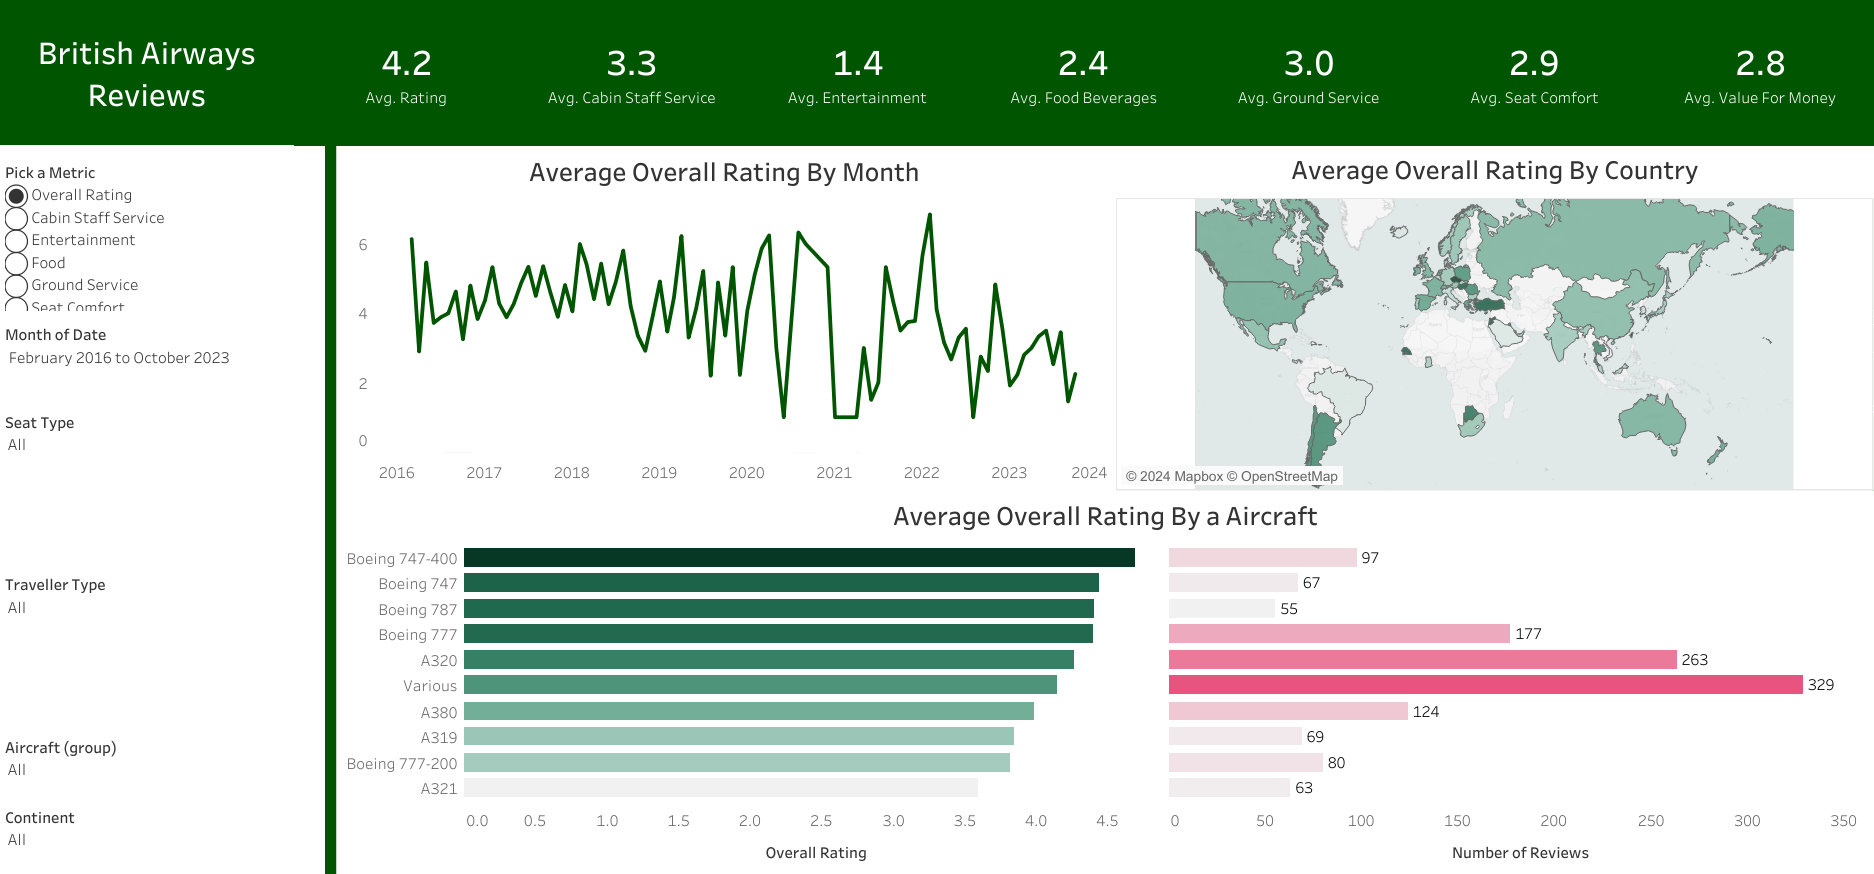

The dashboard page shown, as its layout file describes it:
{"tool":"tableau","page":{"name":"Dashboard 1","canvas":[1000,1000],"units":"permille","ordinal":0},"visuals":[{"type":"text","box":[0,0,156.4,165.7]},{"type":"worksheet","title":"Summary","mark":"Automatic","box":[156.4,0,842.9,165.7]},{"type":"worksheet","title":"Map","mark":"Automatic","box":[595.2,164.5,404.2,396]},{"type":"worksheet","title":"Month","mark":"Automatic","rows":["Calculation_3804978748397146124"],"cols":["date"],"box":[180.6,166.9,411.1,391.3]},{"type":"parameter","param":"[Parameters].[Countries.csv Parameter]","box":[0,176.3,173,205.7]},{"type":"filter","title":"Map","param":"[federated.07l4h2d123v0ec13ucyf30oirlqx].[tmn:date:qk]","box":[0,381.9,173,85.8]},{"type":"filter","title":"Map","param":"[federated.07l4h2d123v0ec13ucyf30oirlqx].[none:seat_type:nk]","box":[0,467.7,173,177.4]},{"type":"worksheet","title":"Aircraft","mark":"Automatic","cols":["Calculation_3804978748397146124","ba_reviews.csv_DE9083BD3FDE47F18EFC95E63865FE6A"],"box":[180.6,560.5,818,434.8]},{"type":"filter","title":"Map","param":"[federated.07l4h2d123v0ec13ucyf30oirlqx].[none:traveller_type:nk]","box":[0,645.1,173,204.5]},{"type":"filter","title":"Map","param":"[federated.07l4h2d123v0ec13ucyf30oirlqx].[Aircraft (group)]","box":[0,849.6,173,71.7]},{"type":"filter","title":"Map","param":"[federated.07l4h2d123v0ec13ucyf30oirlqx].[none:Continent:nk]","box":[0,921.3,173,71.7]}]}

Visuals, with their boxes on the dashboard's canvas, which has no fixed pixel size, in thousandths of its width and height (x1, y1, x2, y2). These are canvas units, not pixel positions in the 1874x874 screenshot, which may show the page scaled, cropped or inside an application window:
text: box=[0, 0, 156, 166]
"Summary" worksheet: box=[156, 0, 999, 166]
"Map" worksheet: box=[595, 164, 999, 560]
"Month" worksheet: box=[181, 167, 592, 558]
parameter: box=[0, 176, 173, 382]
"Map" filter: box=[0, 382, 173, 468]
"Map" filter: box=[0, 468, 173, 645]
"Aircraft" worksheet: box=[181, 560, 999, 995]
"Map" filter: box=[0, 645, 173, 850]
"Map" filter: box=[0, 850, 173, 921]
"Map" filter: box=[0, 921, 173, 993]
